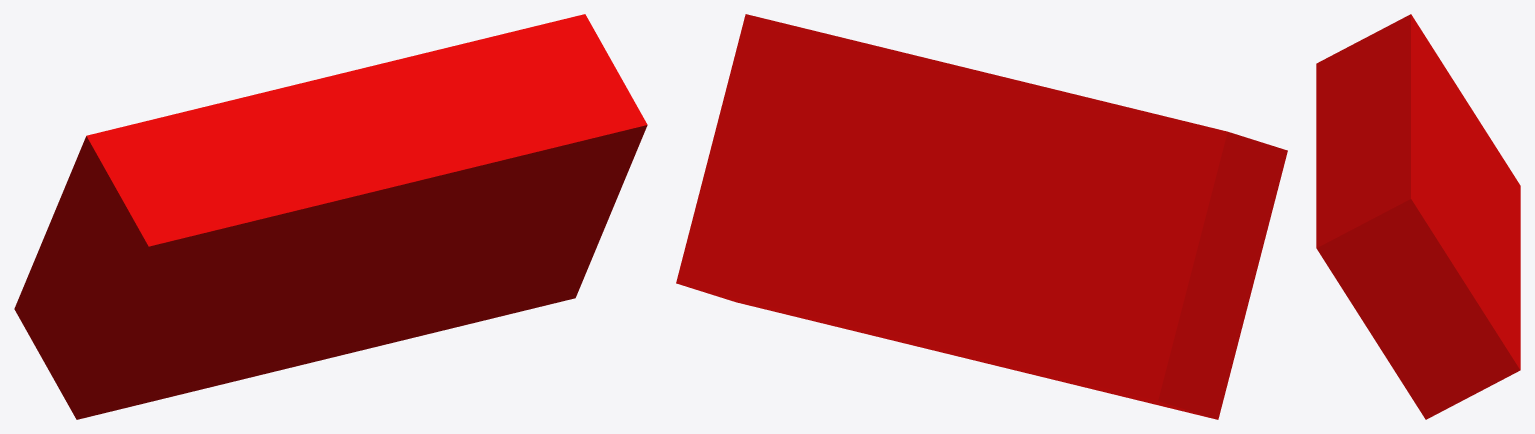
3 renders of one model, left to right at view 1: azimuth 30°, elevation 25°; view 2: azimuth 150°, elevation 25°; view 3: azimuth 270°, elevation 25°, orthographic. The views are drawn at different scales.
Parts seen in each view (by area): view 1: Mesh; view 2: Mesh; view 3: Mesh.
Part boxes in pixels (left/top/right/bottom): Mesh: left=14, top=14, right=647, bottom=419; Mesh: left=676, top=14, right=1287, bottom=419; Mesh: left=1316, top=14, right=1520, bottom=419.
Bounding box in the file's own units: 2 × 1.12 × 0.9332.
